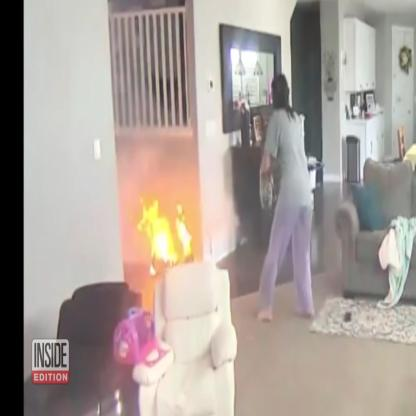fire: (138, 199, 192, 275)
